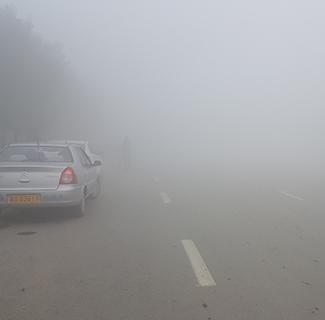car: (1, 140, 104, 218)
